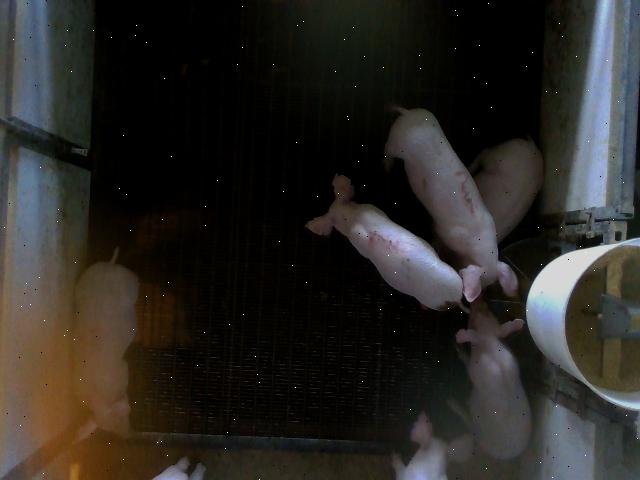pig-3: (385, 108, 518, 301)
pig-5: (306, 174, 465, 311)
